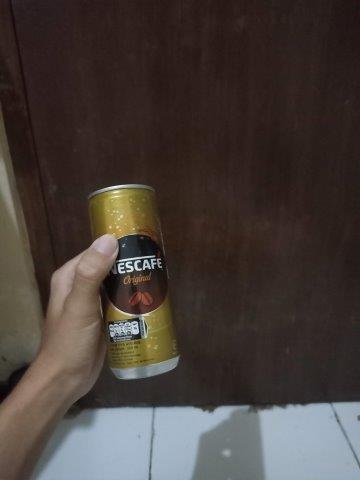kaleng: (88, 183, 179, 379)
